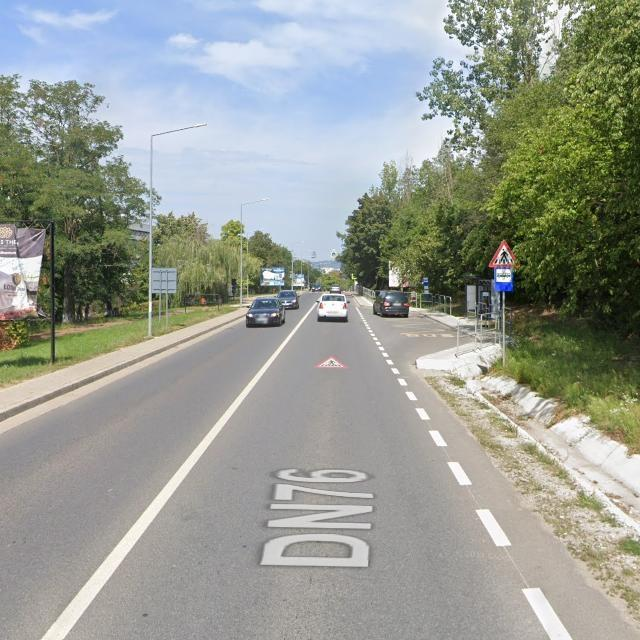warn_crosswalk: (489, 240, 517, 267), (313, 356, 350, 370)
